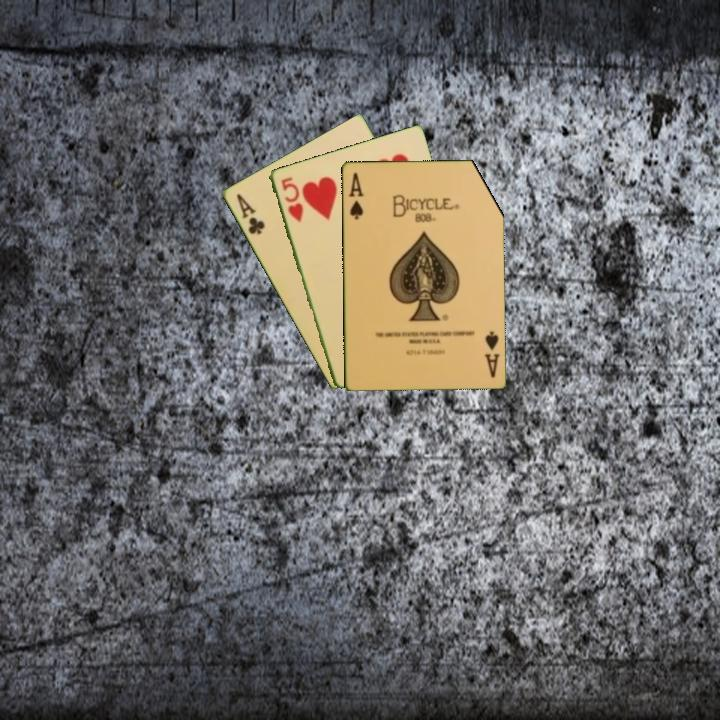5h: (277, 173, 306, 225)
Ac: (232, 190, 267, 237)
As: (345, 169, 366, 222), (481, 327, 502, 380)
